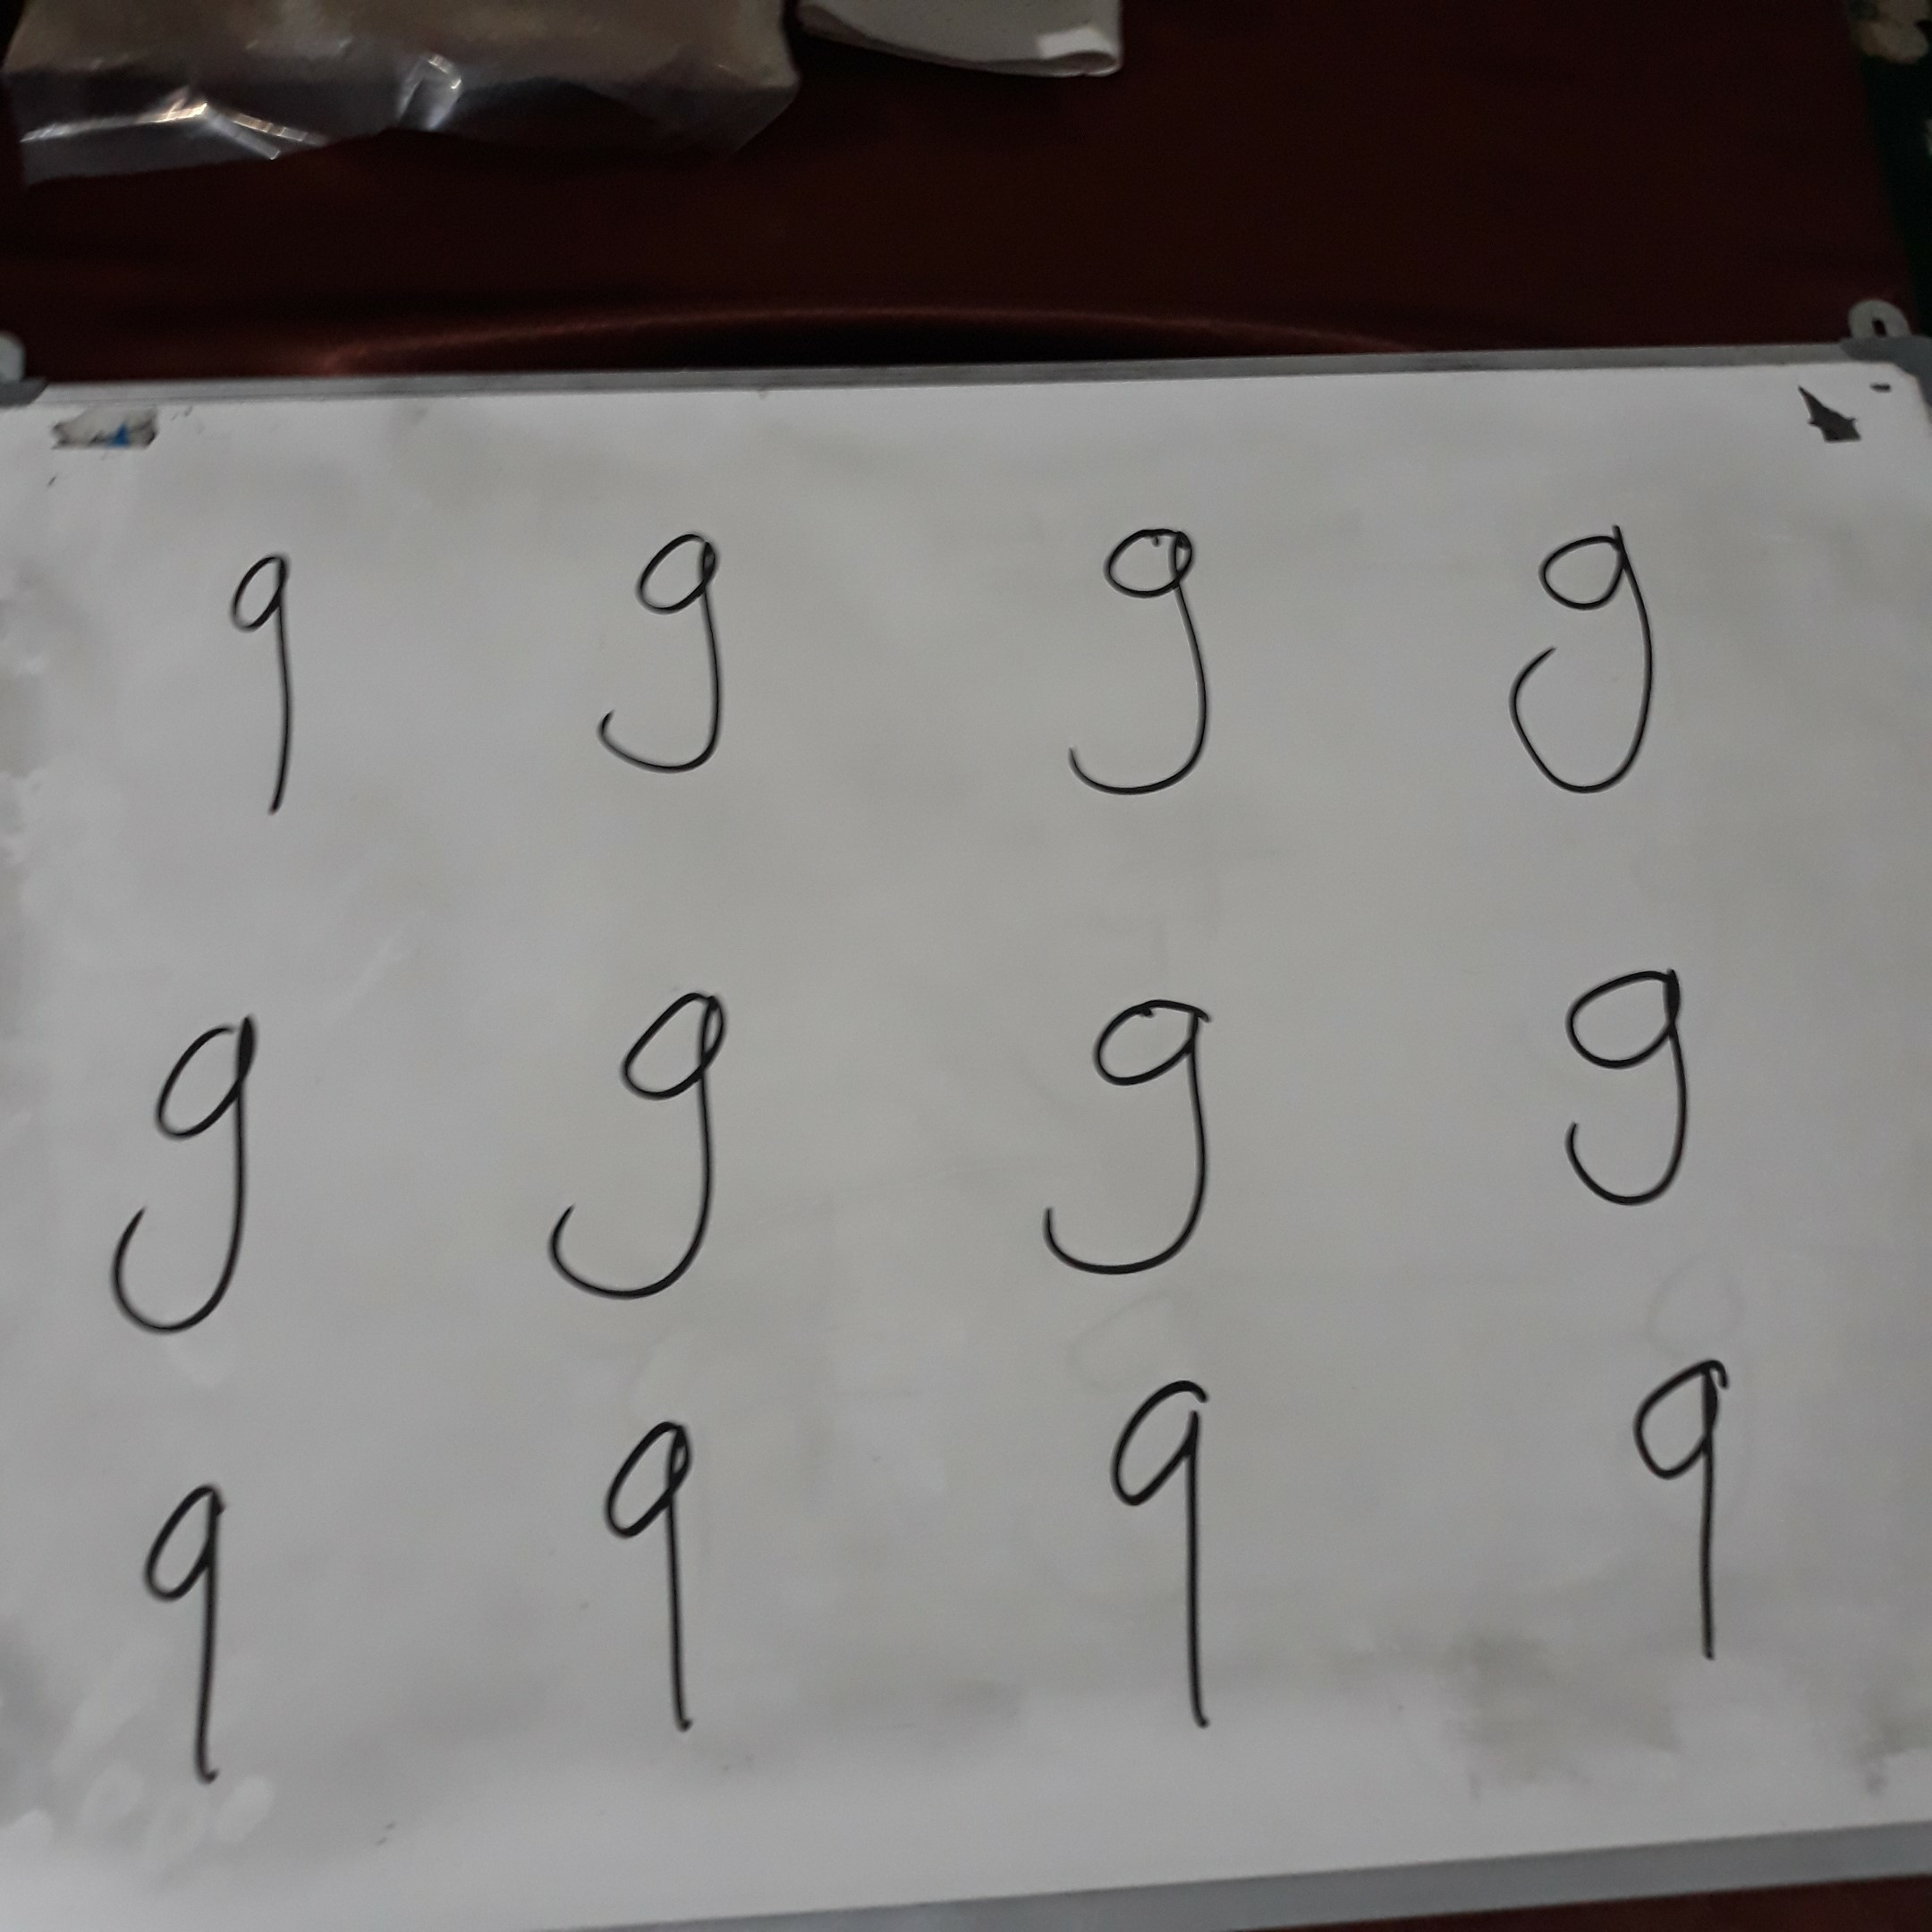num9: (528, 961, 748, 1318), (89, 1000, 275, 1344), (1018, 988, 1232, 1284), (1492, 510, 1672, 815), (1050, 504, 1230, 811), (1095, 1369, 1236, 1749), (1617, 1330, 1763, 1673), (589, 1404, 729, 1756), (1538, 949, 1711, 1214), (588, 508, 748, 784), (125, 1475, 259, 1805), (213, 539, 332, 825)
